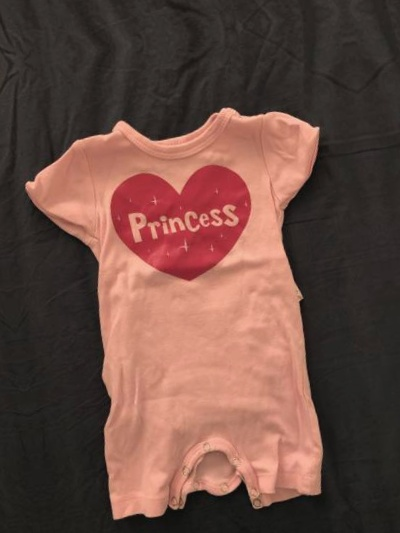Body: (0, 68, 394, 533), (0, 124, 45, 533), (384, 4, 400, 496), (0, 0, 306, 15)
